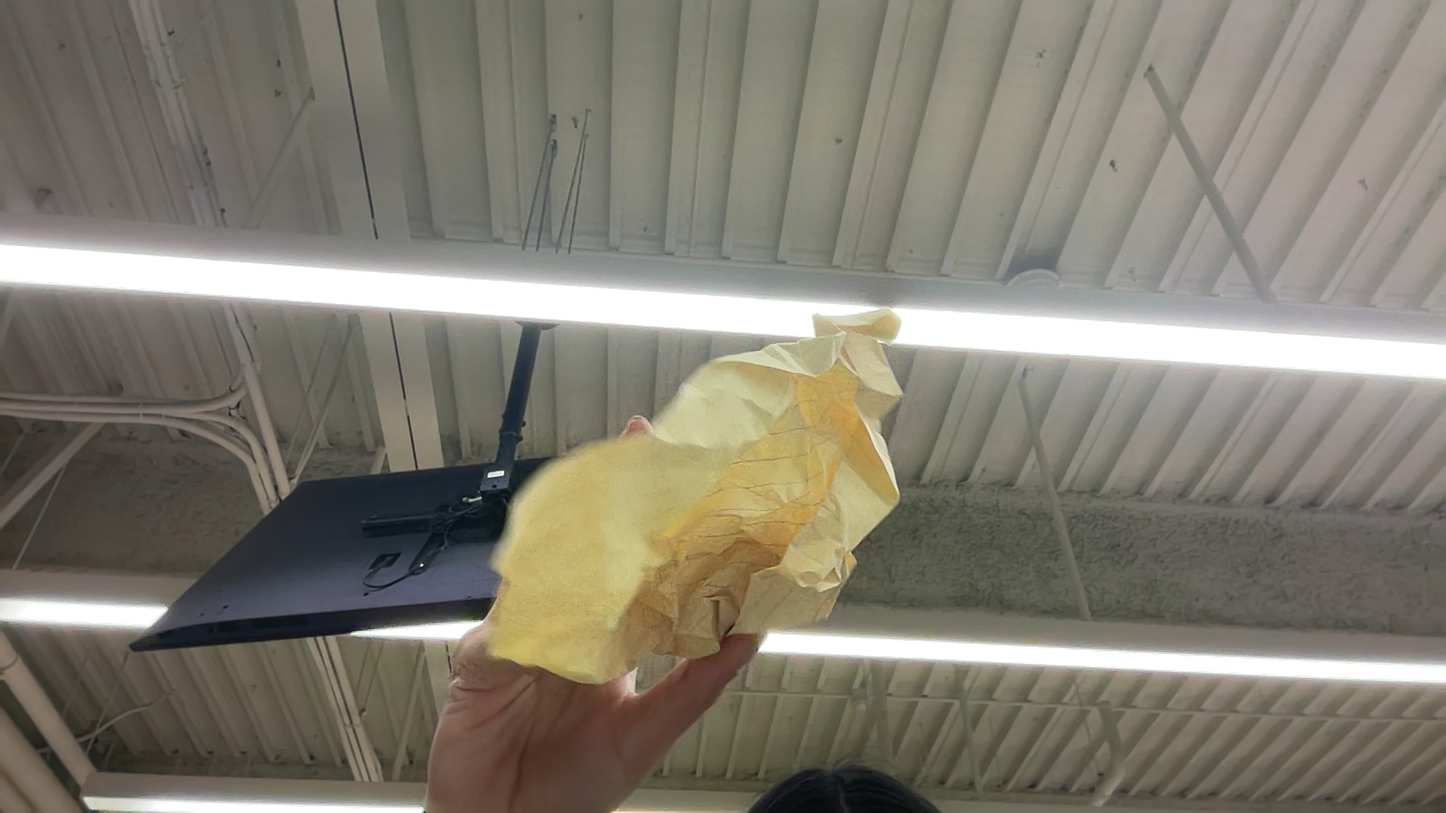Paper: (464, 325, 894, 699)
